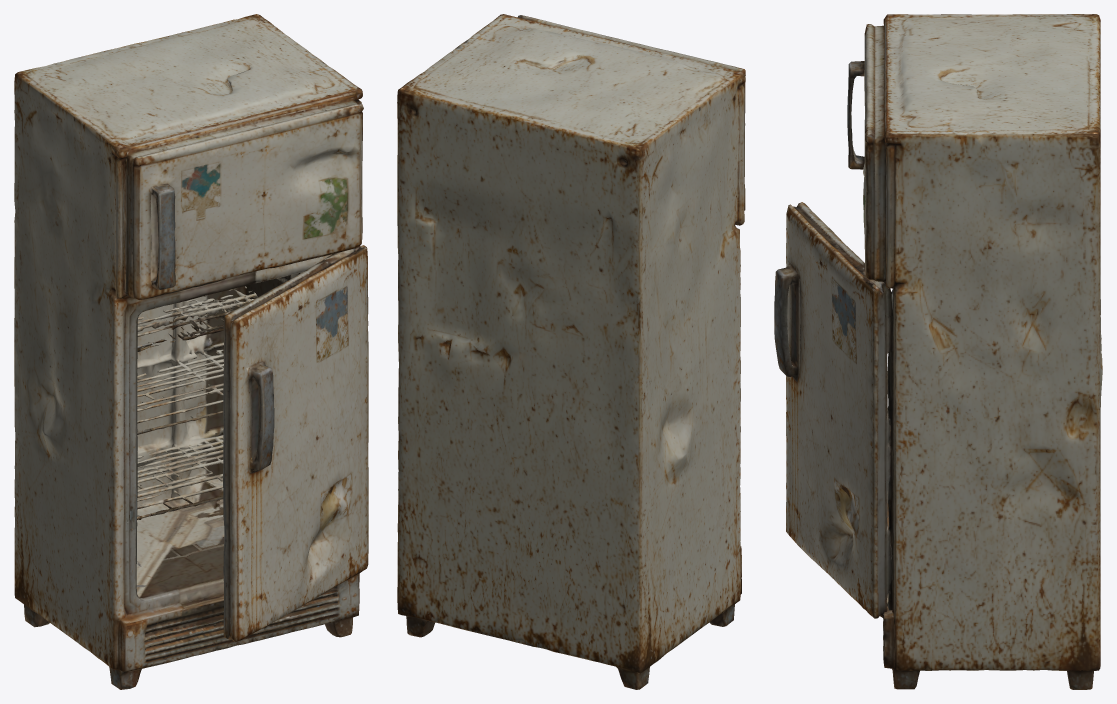
Rendered from Refrigerator.fbx.
The picture shows the model from 3 angles, left to right: view 1: azimuth 30°, elevation 25°; view 2: azimuth 150°, elevation 25°; view 3: azimuth 270°, elevation 25°; orthographic projection. The views are drawn at different scales.
Parts seen in each view (by area): view 1: texture_mapping; view 2: texture_mapping; view 3: texture_mapping.
Boxes of the visible parts, <box> form: texture_mapping: <box>14,14,368,689</box>; texture_mapping: <box>397,14,745,689</box>; texture_mapping: <box>774,14,1102,689</box>.
Size of the model in its own units: 0.4776 by 0.529 by 1.
Materials: 1 (1 with a texture image).
